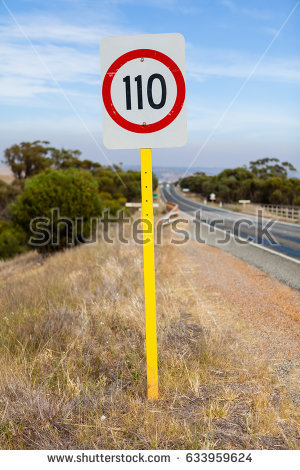Speed_limit_110km: (102, 48, 187, 135)
